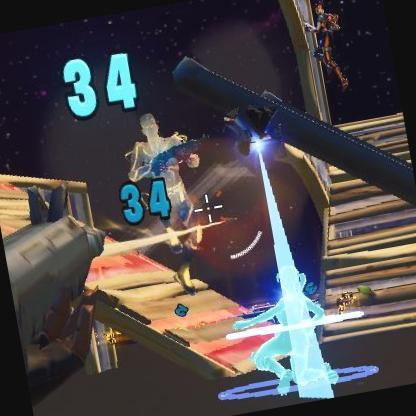person: (124, 103, 204, 293), (306, 0, 354, 89)
